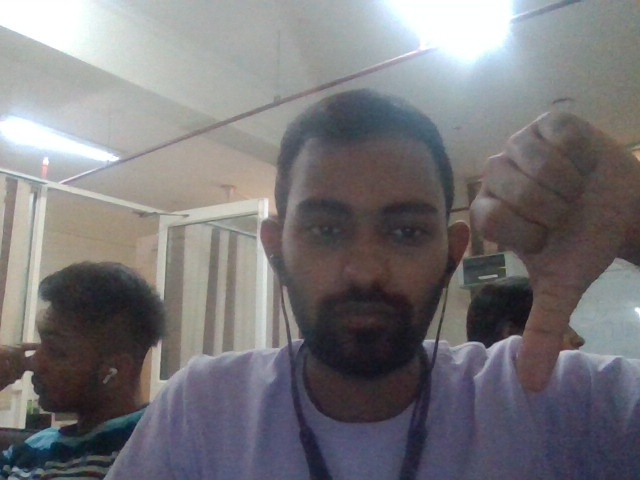No: (468, 109, 640, 392)
